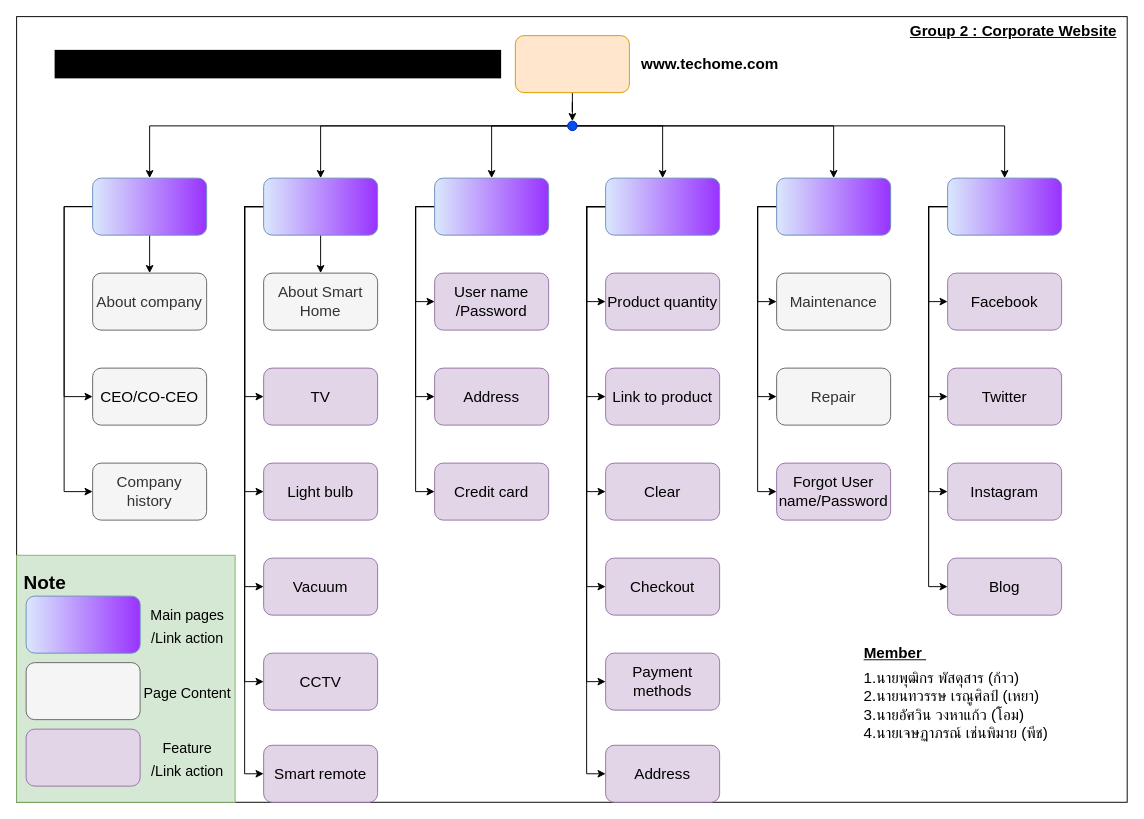
The diagram is 1144 pixels wide and 819 high, and some of its shapes have lost their labels. Here are the shapes that lost their labels. From the top down, the centre of each, then its label:
(x=277, y=63): Topic : บริษัทที่เกี่ยวกับการผลิตเทคโนโลยีเครื่องใช้ภายในบ้าน
(x=571, y=64): Techome
(x=149, y=206): About us
(x=320, y=206): Store
(x=491, y=206): Sign up/Log in
(x=662, y=206): My cart
(x=833, y=206): Support
(x=1004, y=206): Other pages
